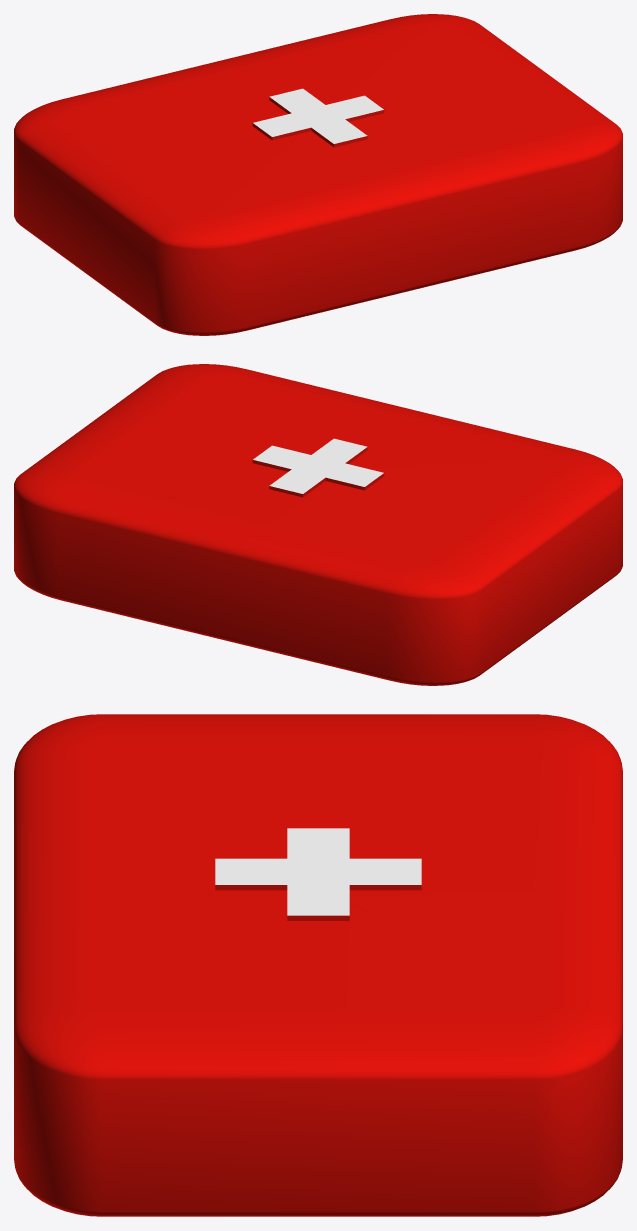
File: Health Pack.fbx
3 renders of one model, top to bottom at view 1: azimuth 30°, elevation 25°; view 2: azimuth 150°, elevation 25°; view 3: azimuth 270°, elevation 25°, orthographic. The views are drawn at different scales.
Visible parts, largest first — view 1: Cube; view 2: Cube; view 3: Cube.
Part boxes in pixels (box(x1,y1,x2,y2)): Cube: box(14, 14, 622, 335); Cube: box(14, 364, 622, 685); Cube: box(14, 714, 622, 1216).
Bounding box in the file's own units: 280 × 67.83 × 200.
